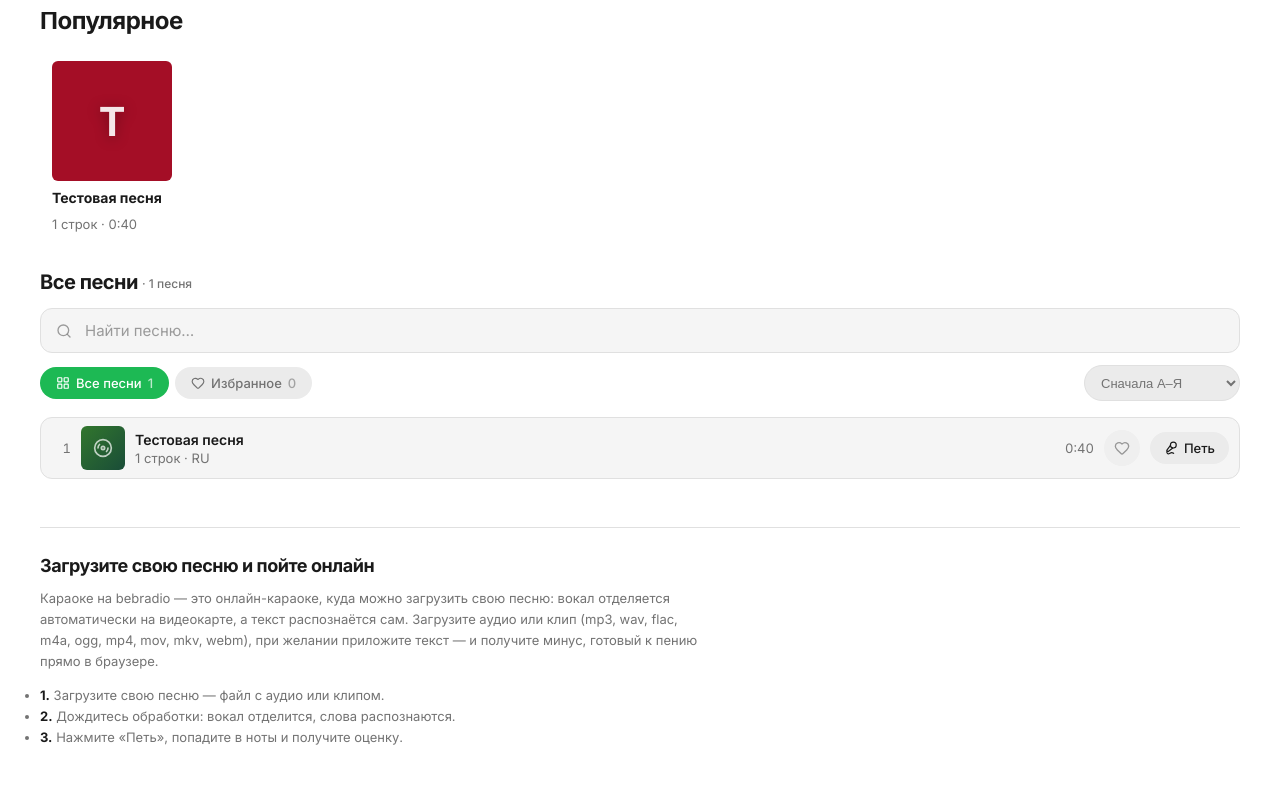
Test: Catalog: фаза 1 — полка, сортировка, язык, вид › клик по строке открывает превью
The width and height of the screenshot is (1280, 812).
(page scrolled)
Expected: the button "Петь" is shown, [1150,432,1229,464]
Step 1. Click the button named "Превью: " → (103, 448), box [81,426,125,470]
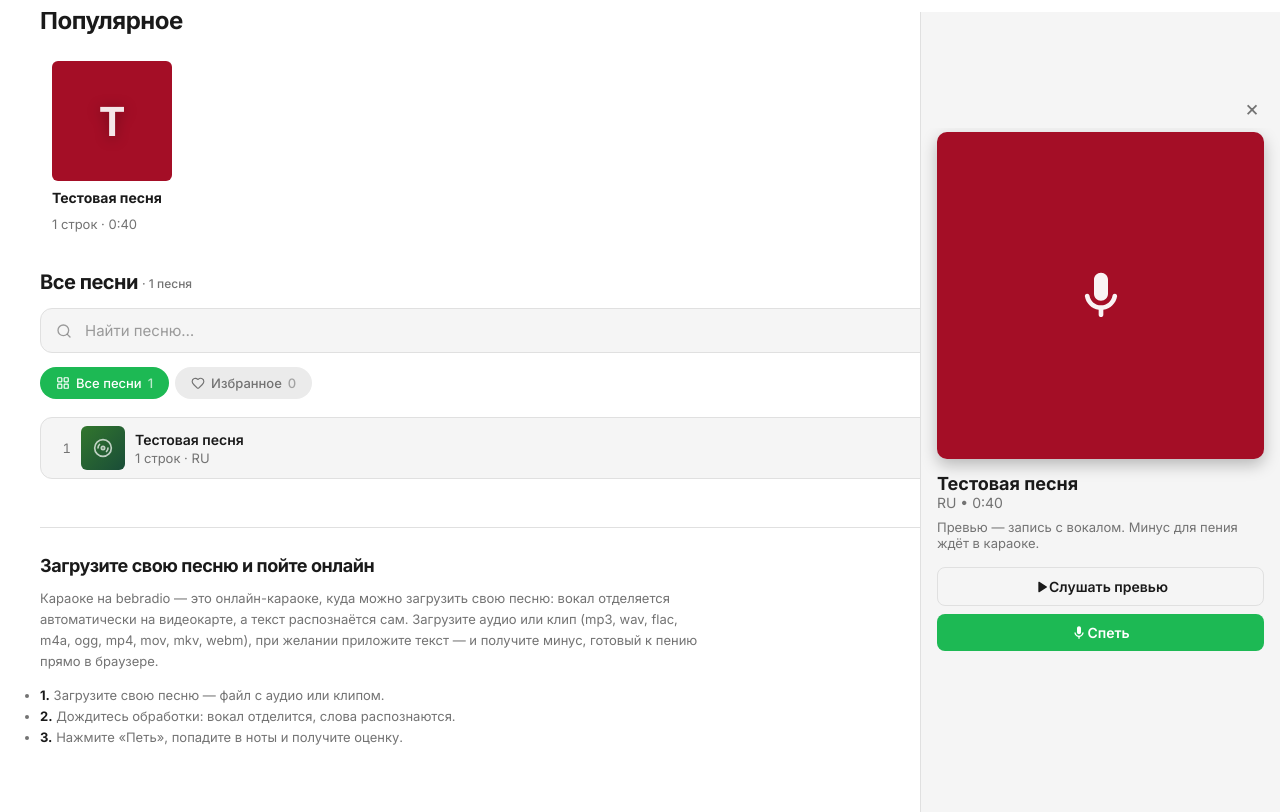
Now the element with test id "karaoke-preview-panel" shows "Тестовая песня", box [937,473,1078,494]
